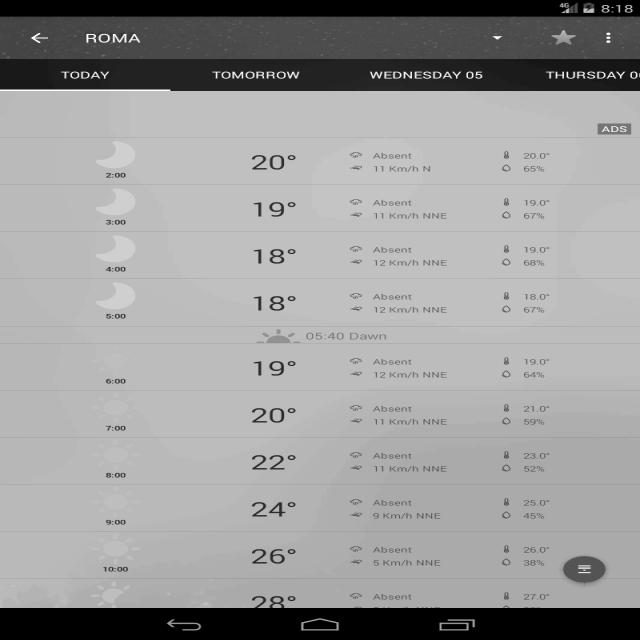ImageButton: (562, 553, 610, 583), (548, 28, 582, 48), (24, 28, 58, 44), (597, 27, 616, 45)
ImageView: (88, 344, 142, 376), (88, 139, 138, 171), (92, 489, 146, 516), (93, 283, 139, 310), (89, 580, 136, 606)
TextView: (367, 290, 457, 318), (370, 543, 452, 570), (370, 448, 448, 475), (371, 146, 446, 174), (362, 68, 489, 81), (207, 66, 310, 82), (244, 149, 306, 171), (243, 498, 302, 520), (249, 290, 301, 314), (245, 451, 299, 474), (79, 29, 156, 45), (54, 68, 120, 83), (521, 290, 558, 316)
